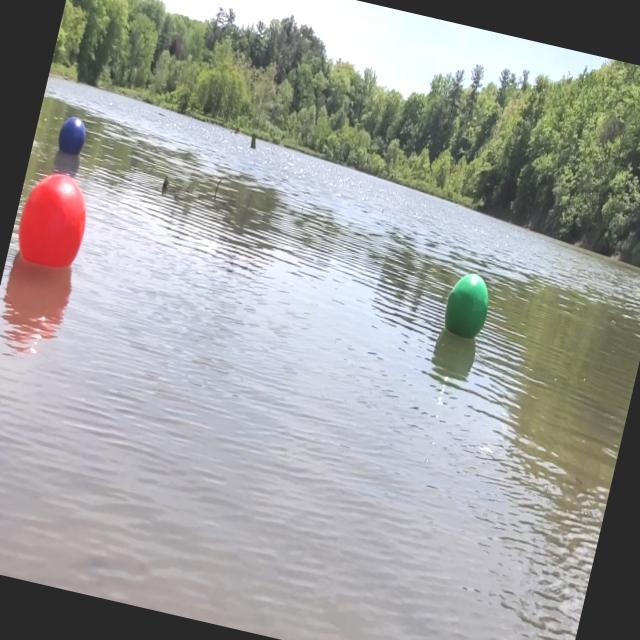buoy: (10, 162, 101, 282), (438, 262, 498, 348), (52, 109, 93, 163)
